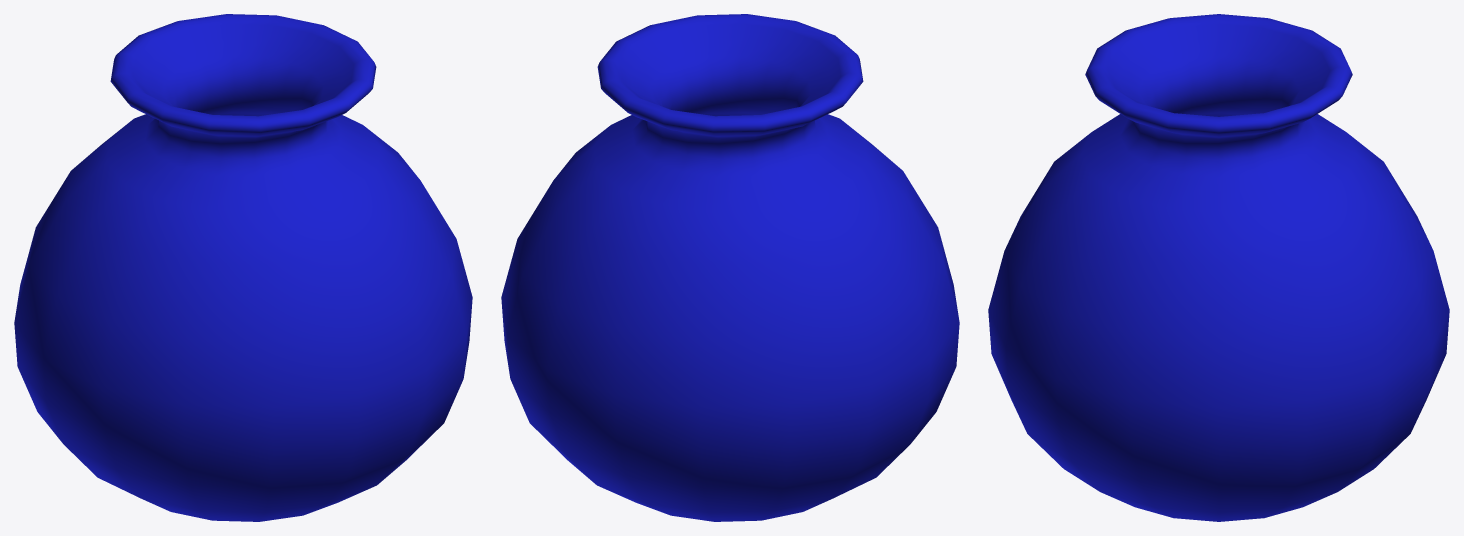
File: Krug_var2.obj
3 views of the same model, side by side, from view 1: azimuth 30°, elevation 25°; view 2: azimuth 150°, elevation 25°; view 3: azimuth 270°, elevation 25° (orthographic).
Visible parts, largest first — view 1: Krug_5; view 2: Krug_5; view 3: Krug_5.
Part boxes in pixels (x1=…): Krug_5: x1=14, y1=14, x2=472, y2=521; Krug_5: x1=501, y1=14, x2=959, y2=521; Krug_5: x1=988, y1=14, x2=1449, y2=521.
Bounding box in the file's own units: 0.4045 × 0.4096 × 0.4045.
